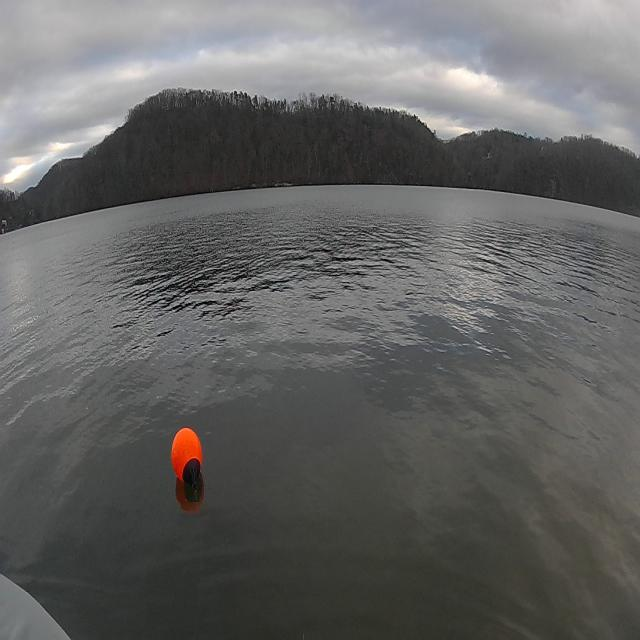Buoy: (167, 422, 206, 509)
